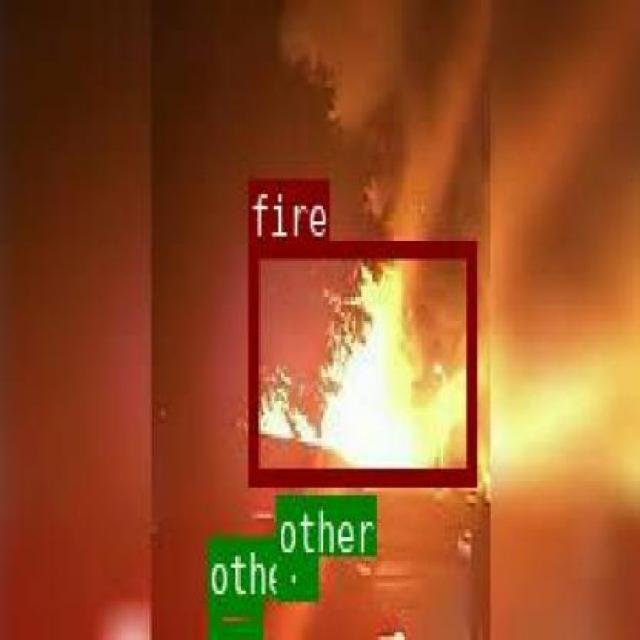Fire: (248, 236, 474, 482)
Smoke: (294, 3, 494, 232)
